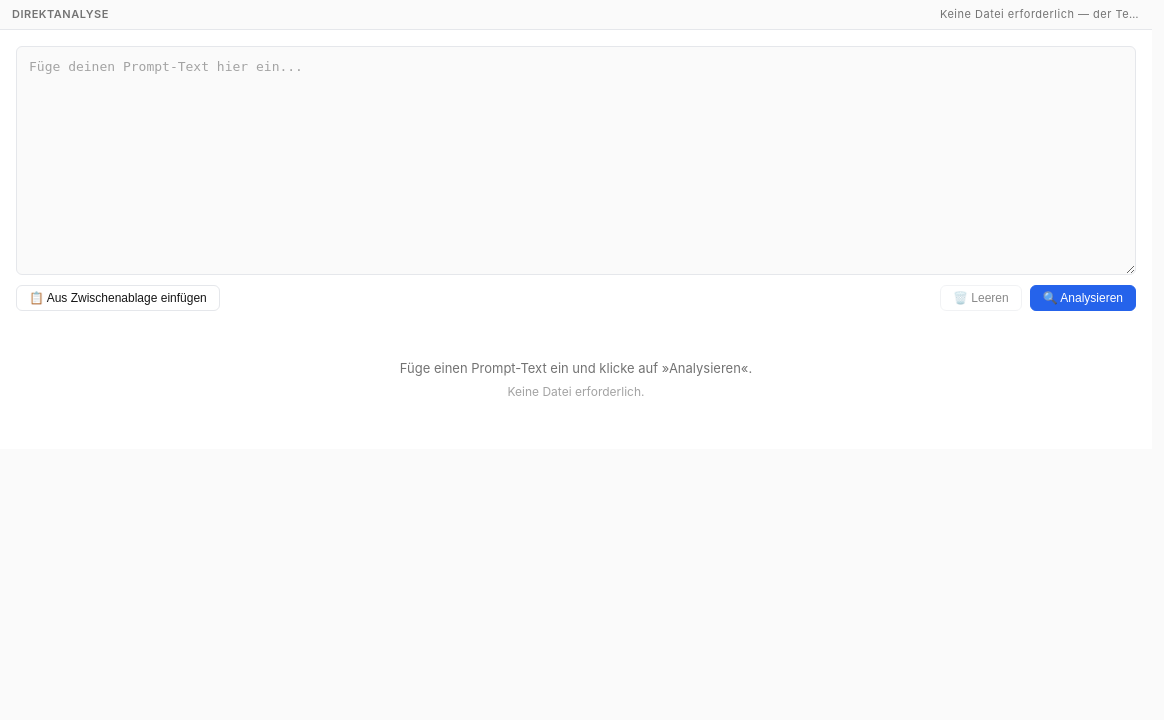
Test: PastePromptAnalyzer › clears text and resets state when clear is clicked
Type "Test content" into the text box with placeholder "Füge deinen Prompt-Text hier ein..." at (576, 160), box 16,46 -> 1136,276
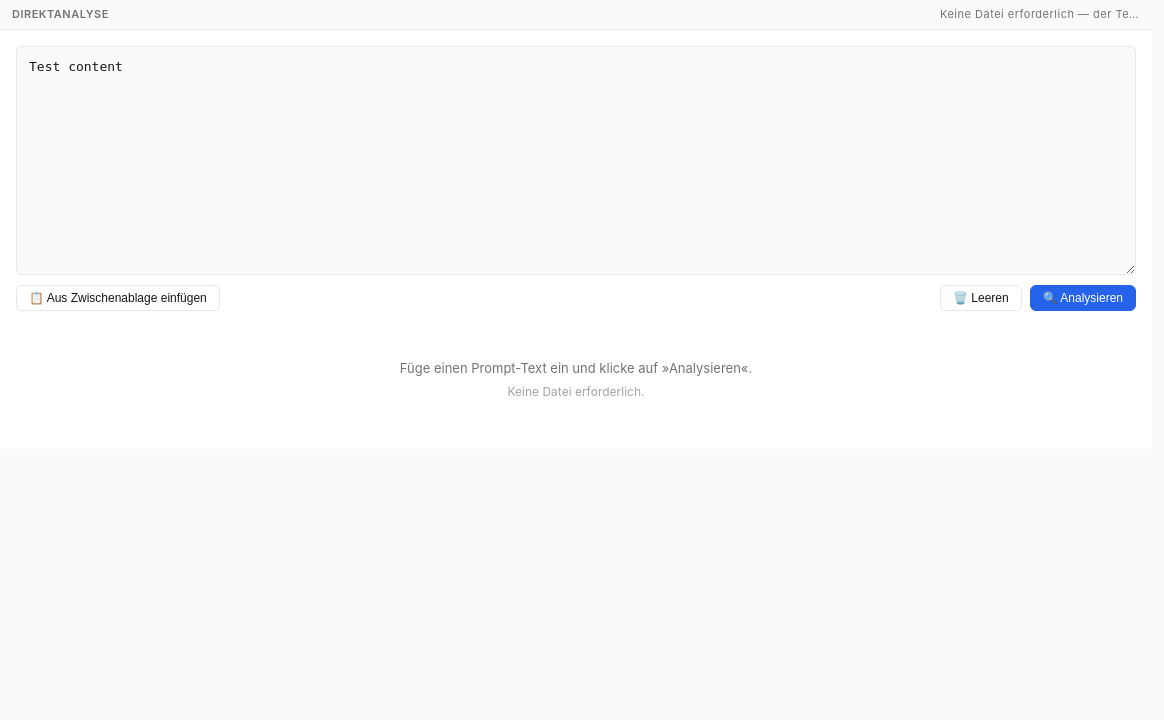
Click the button "🔍 Analysieren" at (1083, 298), box 1030,286 -> 1136,312
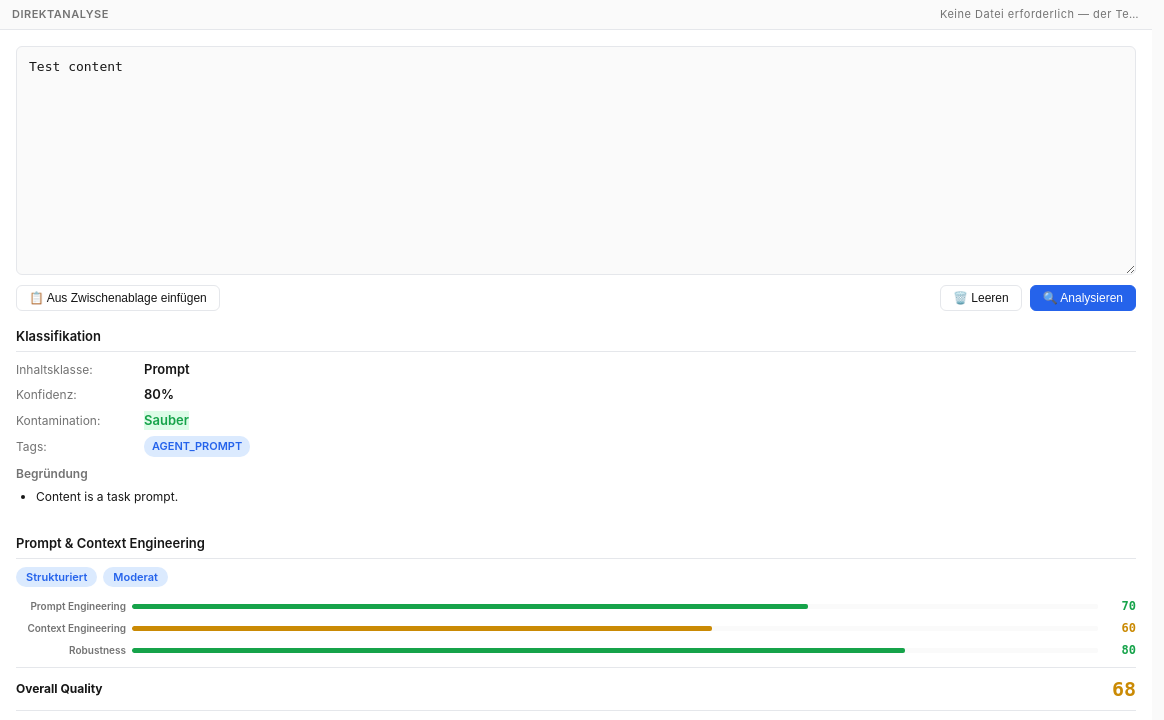
Expected: the heading "Klassifikation" is shown, 16,328 -> 1136,352
Click the button "🗑️ Leeren" at (981, 298), box 940,286 -> 1022,312
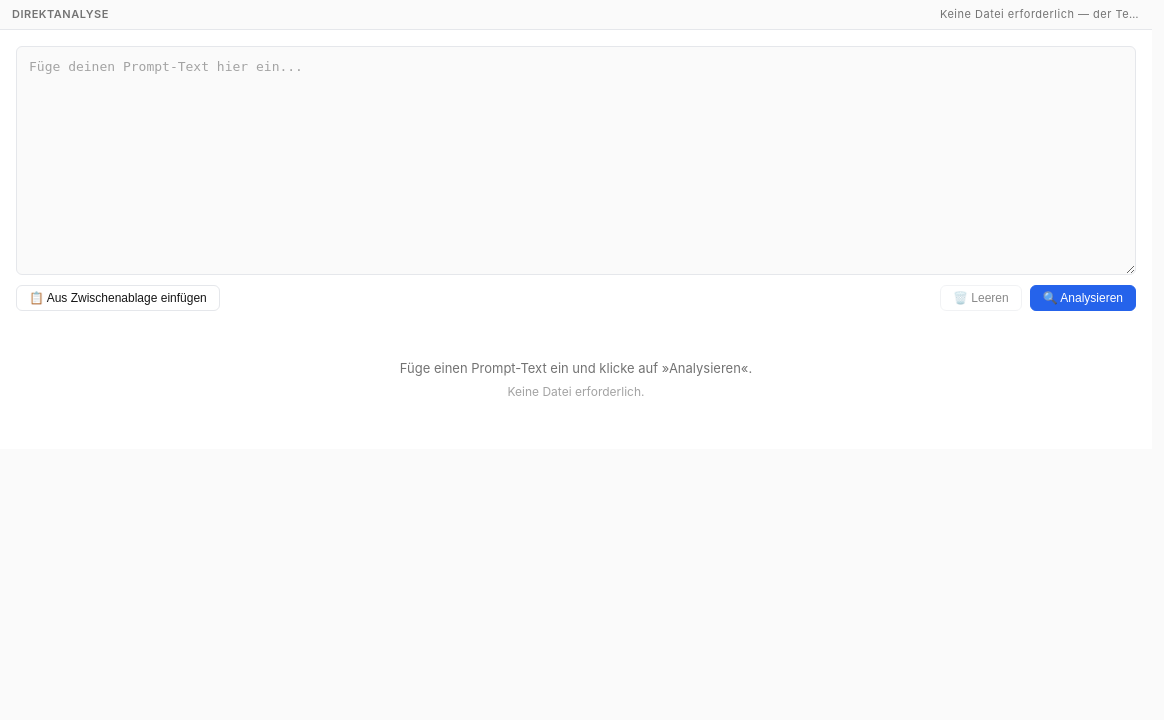
Expected: the text box with placeholder "Füge deinen Prompt-Text hier ein..." is empty, 16,46 -> 1136,276
Expected: the text "Füge einen Prompt-Text ein und klicke auf »Analysieren«." is shown, 400,360 -> 752,379
